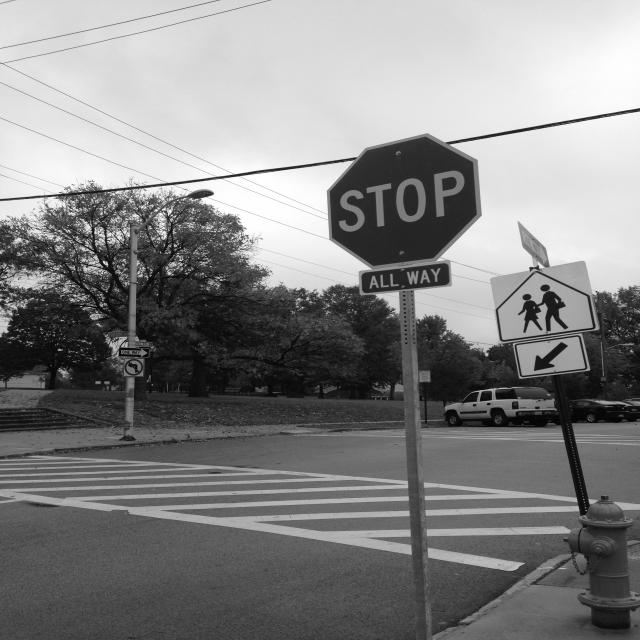Stop-sign: (298, 122, 500, 261)
